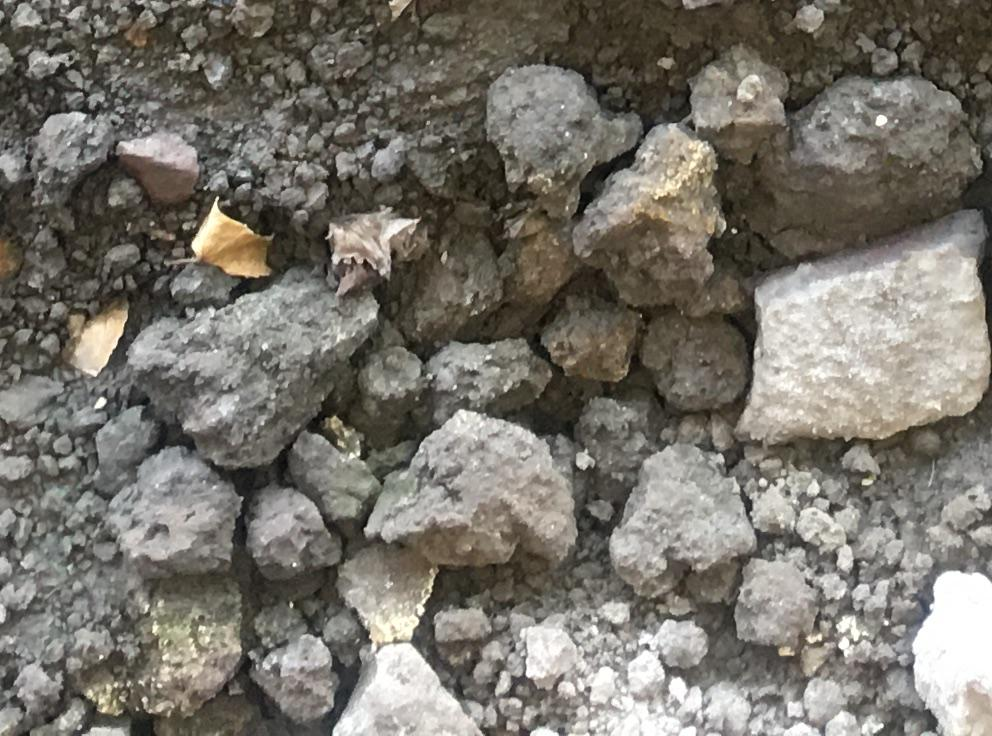block: (748, 207, 985, 459), (127, 277, 374, 468), (738, 70, 980, 255), (372, 412, 574, 564), (570, 118, 727, 309), (482, 60, 631, 217), (613, 443, 760, 600), (104, 445, 235, 572)
